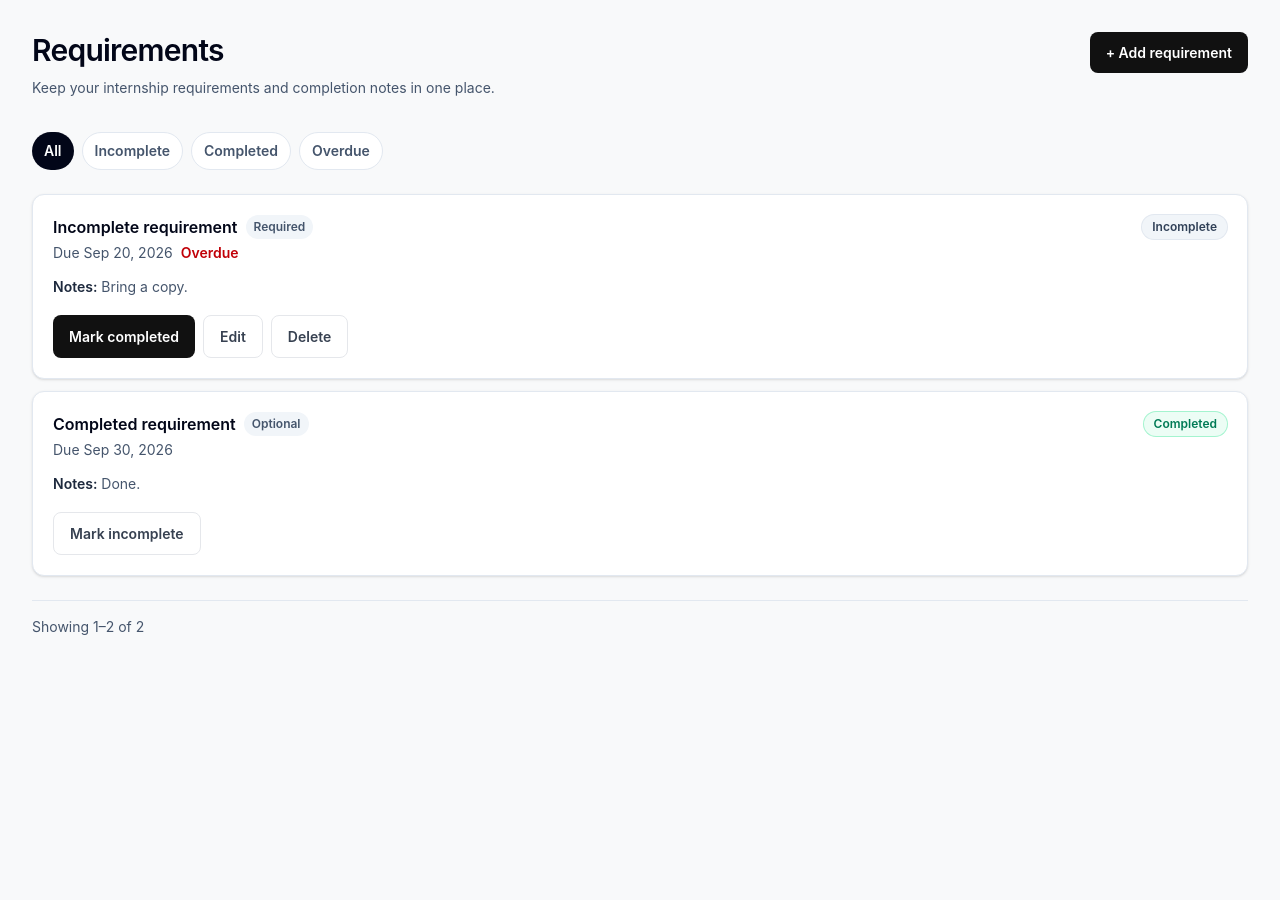
student RequirementsView › limits requirement due dates to the internship period and today
Click the button with test id "add-requirement" at point(1169, 52), box 1090,32 -> 1248,73
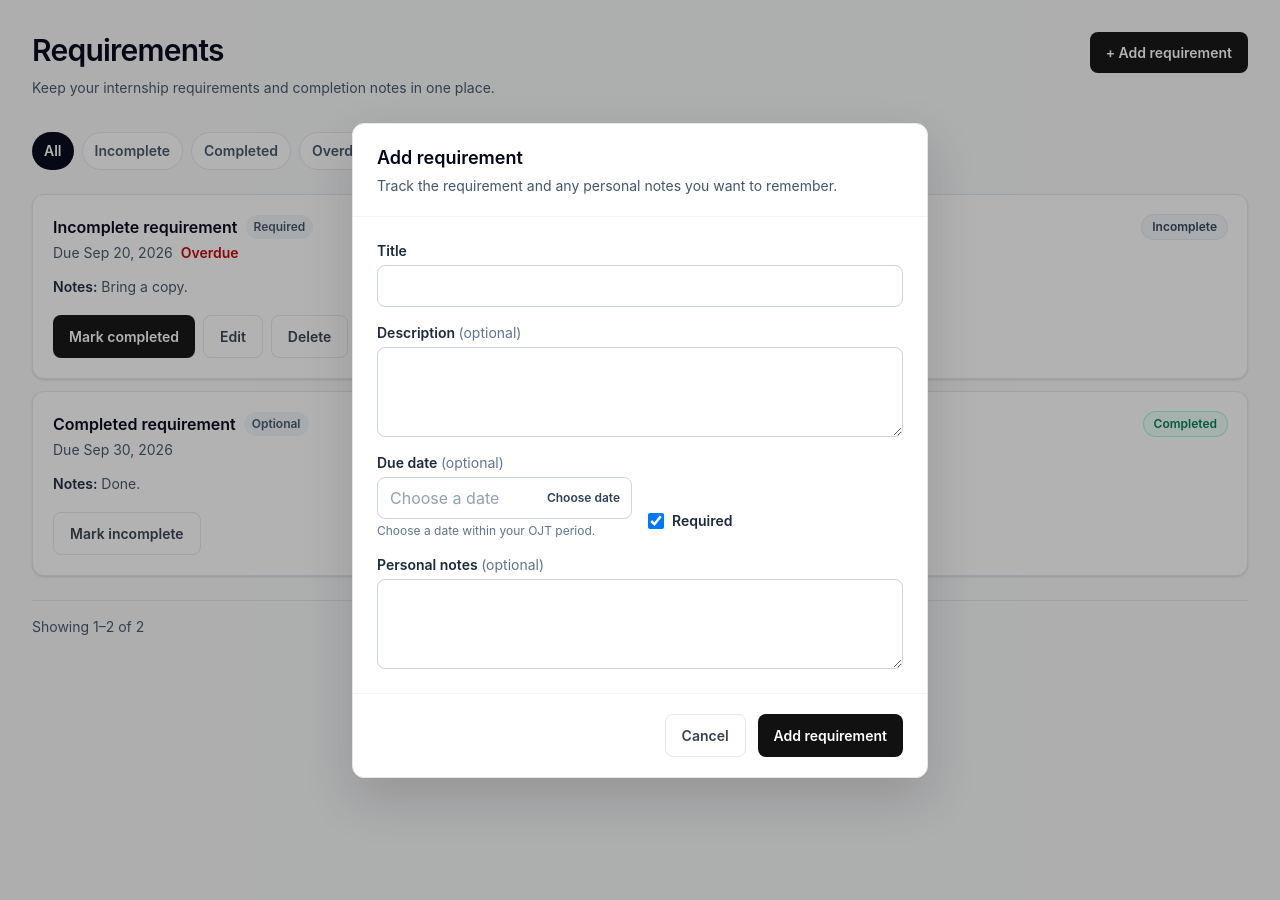
Click the field with id "requirement-due-date" at point(504, 498), box 377,476 -> 632,518
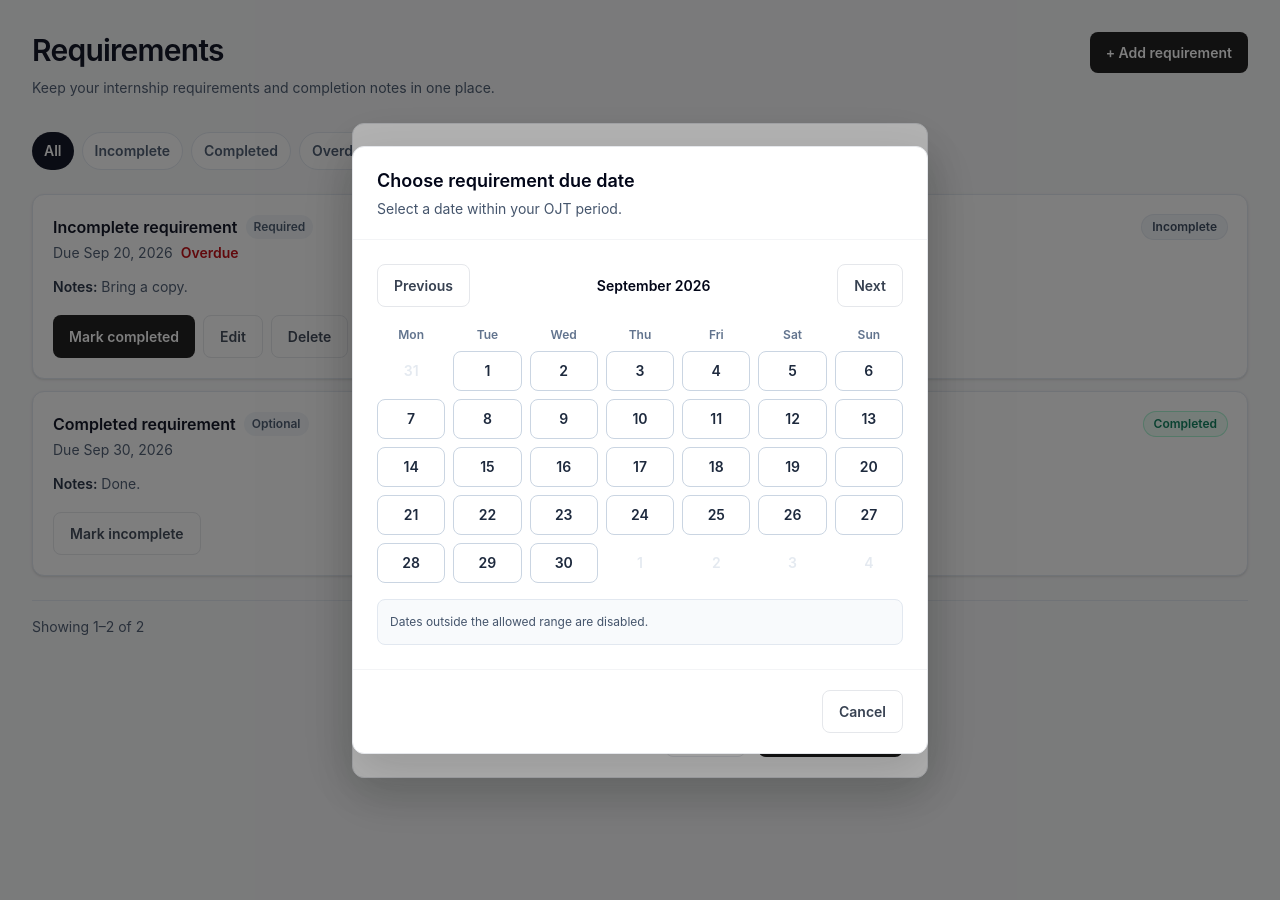
Result: the element with test id "requirement-due-date-calendar" is shown at 377,264 -> 903,645
Result: the button with test id "calendar-day-2026-08-31" is disabled at 377,351 -> 445,391
Result: the button with test id "calendar-day-2026-09-01" is enabled at 453,351 -> 522,391
